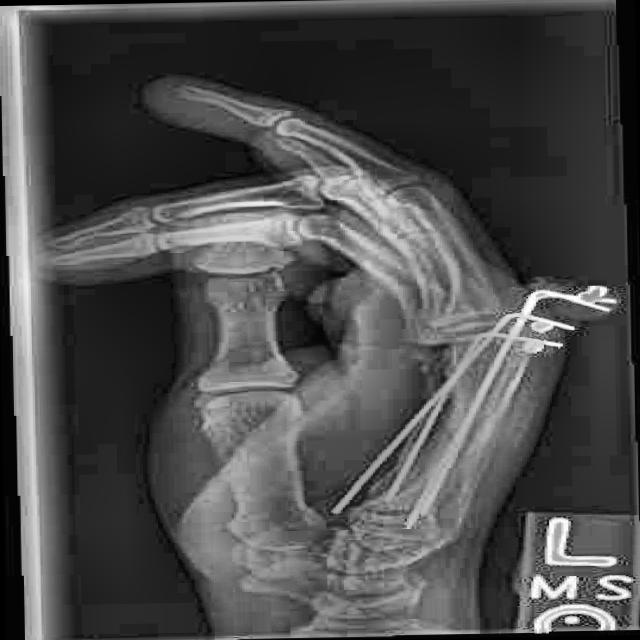fingers positive: (456, 389, 511, 444)
